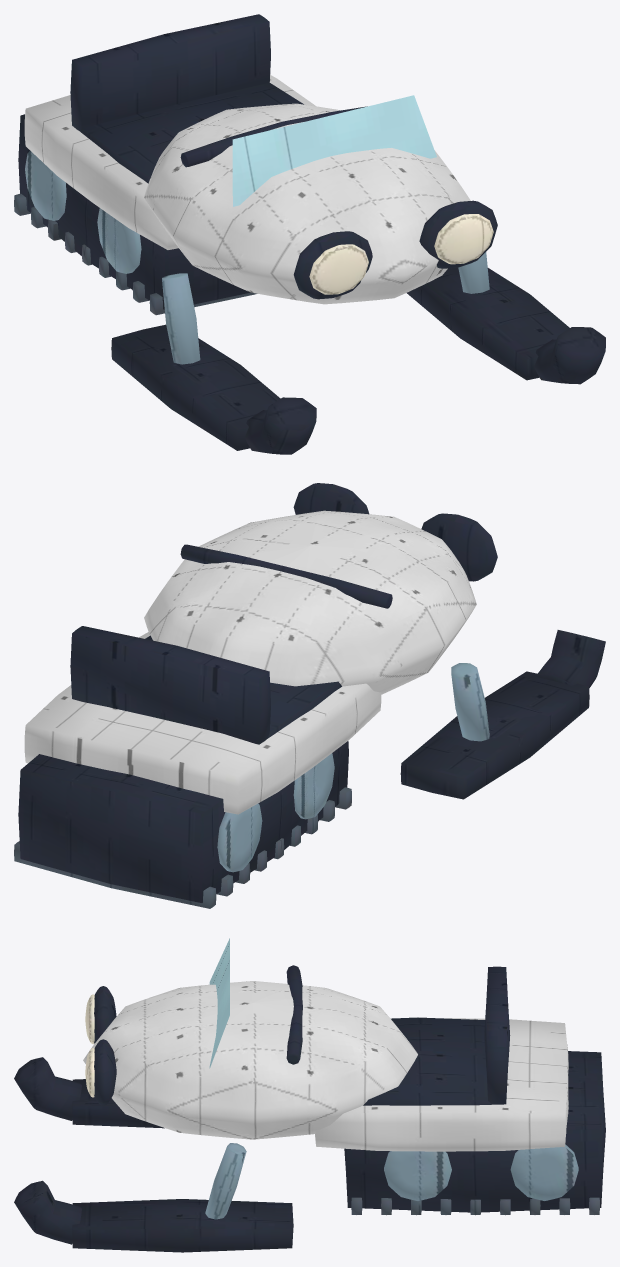
The model's file is snowmobile.glb.
The picture shows the model from 3 angles, top to bottom: view 1: azimuth 30°, elevation 25°; view 2: azimuth 150°, elevation 25°; view 3: azimuth 270°, elevation 25°; orthographic projection. The views are drawn at different scales.
Parts seen in each view (by area): view 1: body_paint, body_details, ski_R, track, ski_L, steer; view 2: body_paint, track, body_details, ski_R, steer; view 3: body_paint, track, body_details, ski_L, ski_R, steer.
Part boxes in pixels (x1=…): body_paint: x1=24, y1=75, x2=470, y2=304; body_details: x1=70, y1=14, x2=497, y2=364; ski_R: x1=111, y1=324, x2=316, y2=454; track: x1=14, y1=114, x2=257, y2=315; ski_L: x1=407, y1=267, x2=605, y2=384; steer: x1=180, y1=106, x2=367, y2=167; body_paint: x1=24, y1=510, x2=476, y2=814; track: x1=14, y1=741, x2=351, y2=908; body_details: x1=70, y1=483, x2=497, y2=744; ski_R: x1=400, y1=630, x2=605, y2=799; steer: x1=180, y1=544, x2=392, y2=608; body_paint: x1=83, y1=981, x2=568, y2=1151; track: x1=344, y1=1051, x2=605, y2=1215; body_details: x1=85, y1=938, x2=510, y2=1219; ski_L: x1=14, y1=1180, x2=293, y2=1252; ski_R: x1=14, y1=1057, x2=164, y2=1128; steer: x1=286, y1=965, x2=302, y2=1064.
Size of the model in its own units: 1.6 by 0.9901 by 2.6.
Materials: 3 (3 with a texture image).
